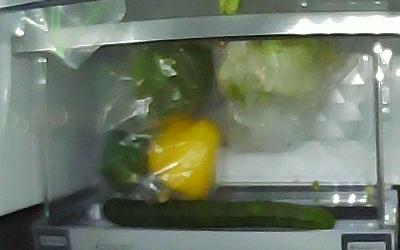broccoli_vinyl: (132, 42, 214, 118)
cucumber: (101, 198, 334, 229)
lettuce_vinyl: (217, 38, 339, 109)
paprika_vinyl: (148, 118, 219, 204), (103, 130, 148, 193)
